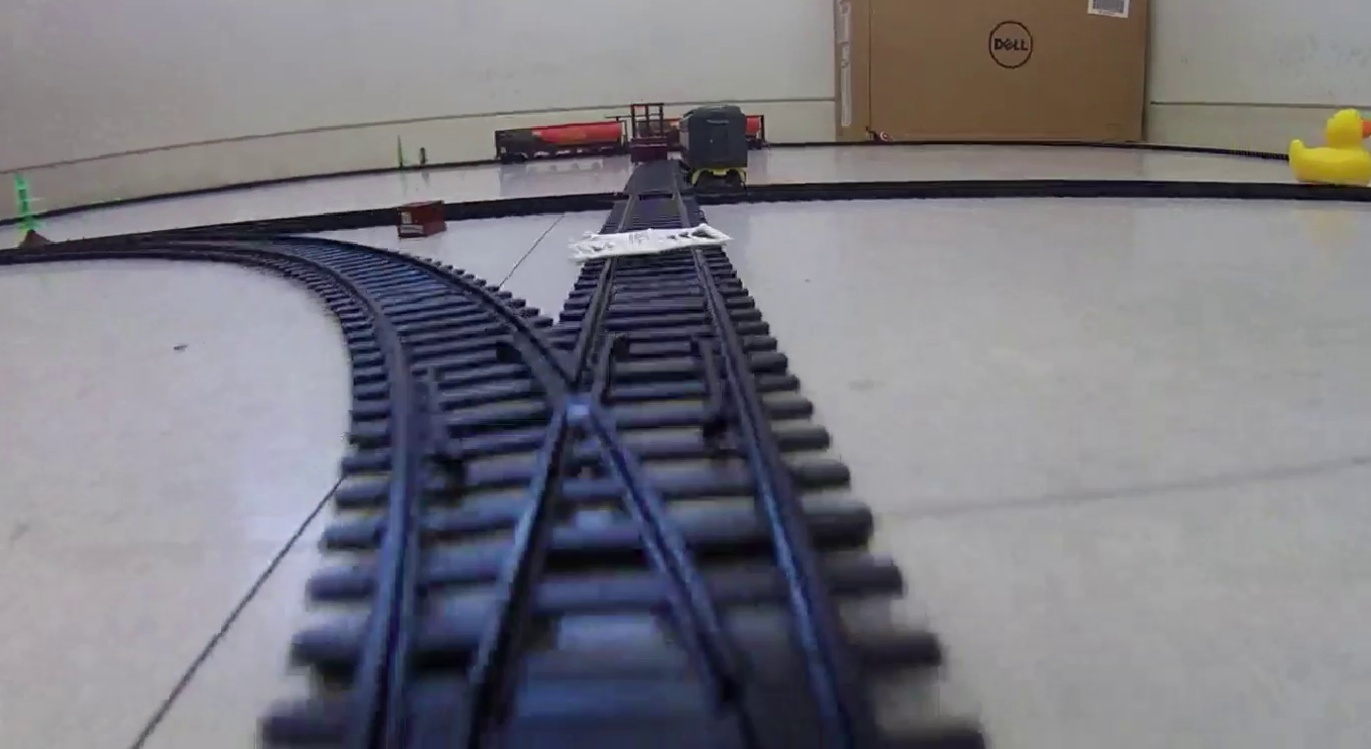box: (393, 202, 447, 237)
web: (573, 221, 733, 265)
